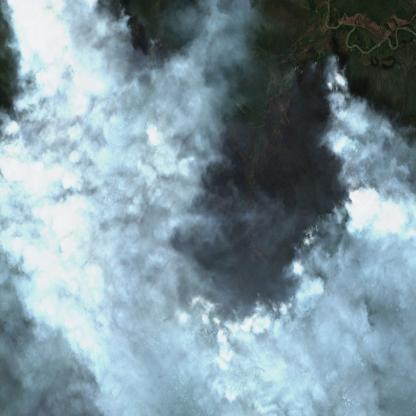fire: (0, 51, 371, 334)
